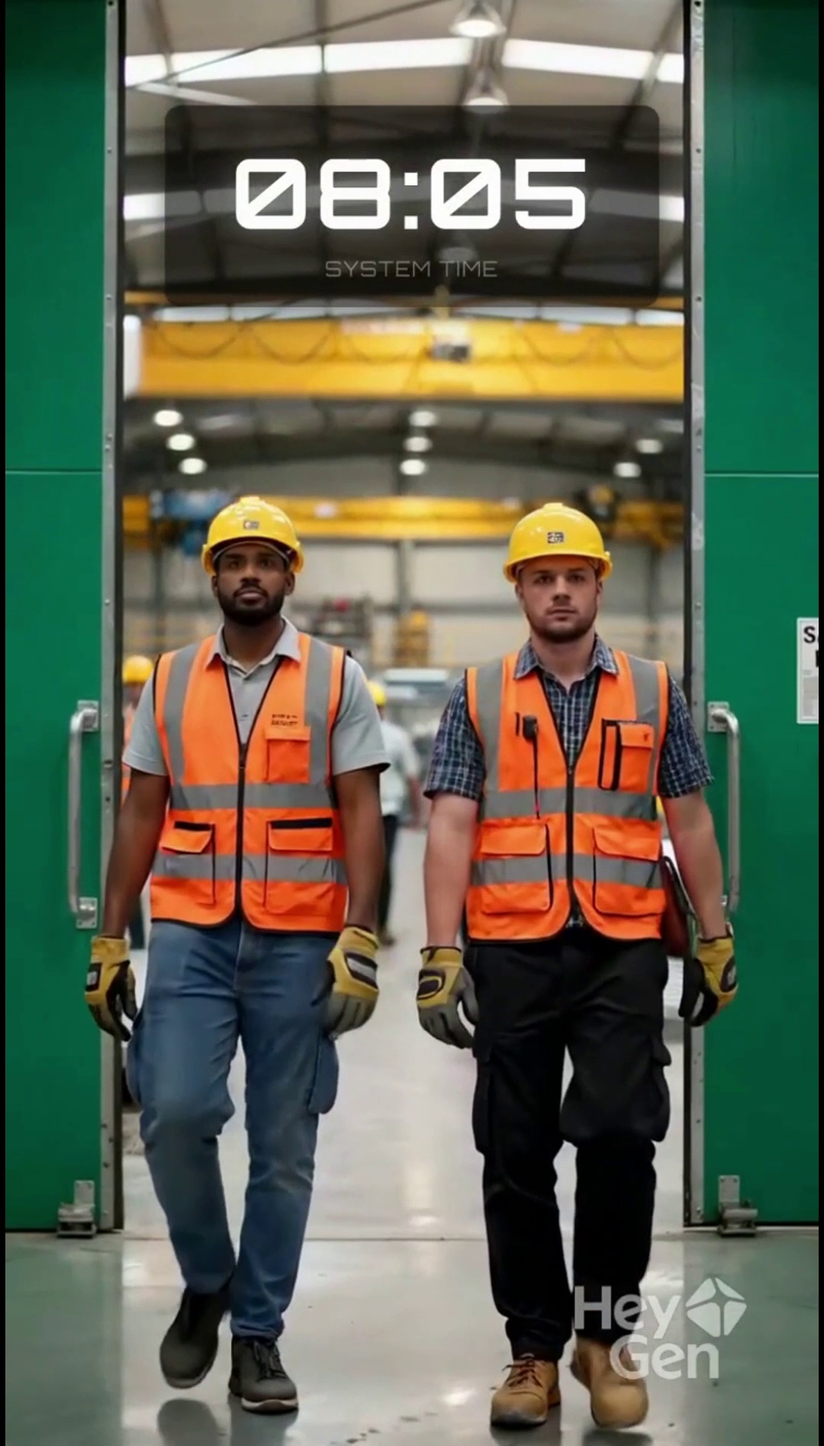Amir: (483, 495, 640, 671)
Sami: (181, 504, 335, 656)
employe: (126, 450, 402, 1411), (464, 456, 730, 1430)
porte_verte: (2, 0, 824, 1227)
temp: (167, 110, 675, 302)
